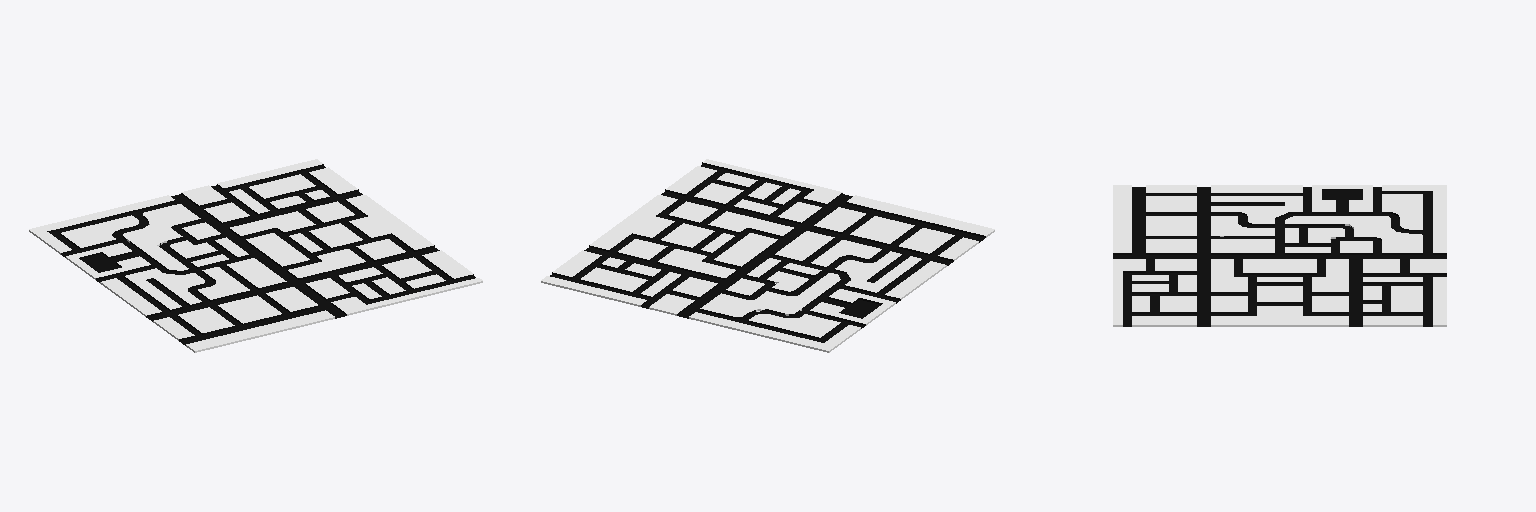
File: city.obj
3 views of the same model, side by side, from view 1: azimuth 30°, elevation 25°; view 2: azimuth 150°, elevation 25°; view 3: azimuth 270°, elevation 25° (orthographic).
Parts seen in each view (by area): view 1: Grid_002-mesh; view 2: Grid_002-mesh; view 3: Grid_002-mesh.
Part boxes in pixels (x1,y1,x2,y2): Grid_002-mesh: (29,159,482,352); Grid_002-mesh: (541,159,994,352); Grid_002-mesh: (1113,185,1446,326).
Bounding box in the file's own units: 500 × 3 × 500.